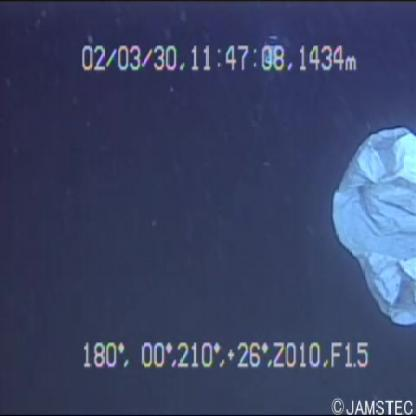Rác: (324, 93, 416, 338)
